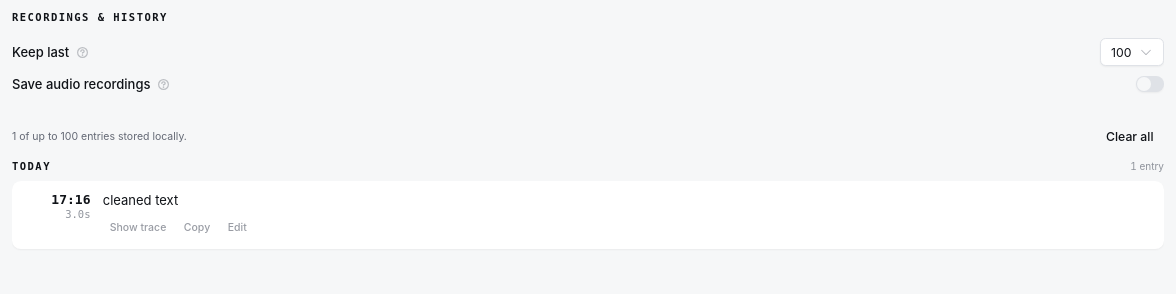
it: HistoryTab entry editing › cancels editing and leaves the entry unchanged
The image size is (1176, 294).
Click the button "Edit": [237, 228] box [221, 218, 254, 239]
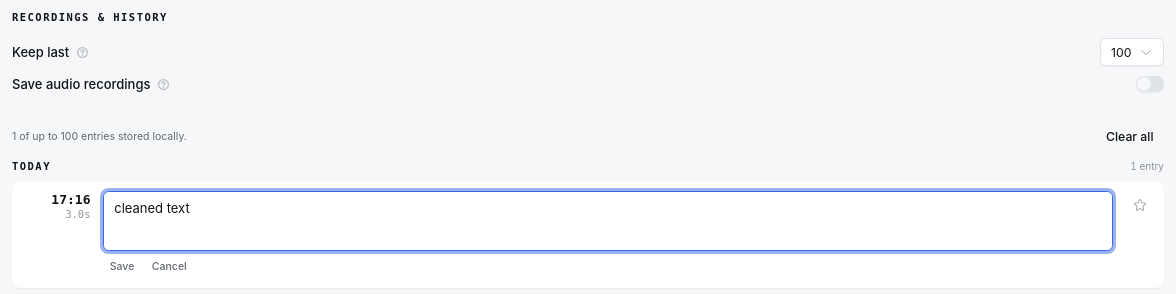
Replace the text in the text box with "should not be saved": [608, 221] box [103, 191, 1113, 251]
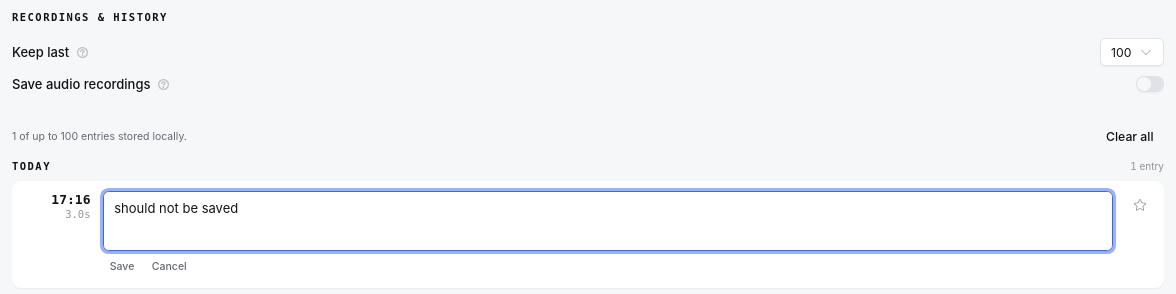
Click the button "Cancel": [169, 267] box [145, 256, 194, 277]
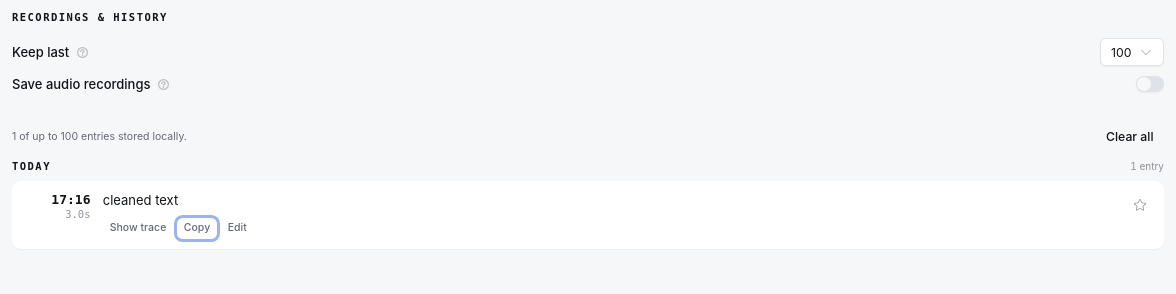
Check: the text "cleaned text" is shown, box [103, 192, 178, 208]
